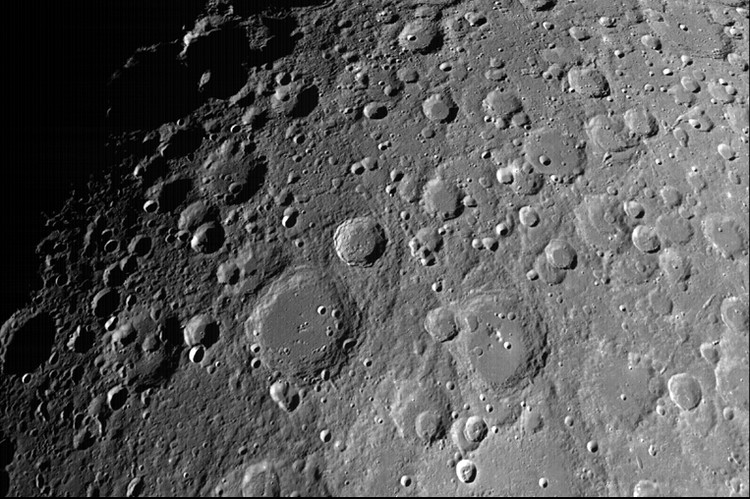crater: (232, 262, 382, 395), (324, 207, 394, 276), (657, 363, 708, 419), (507, 452, 572, 495), (535, 232, 595, 272), (352, 98, 405, 136), (537, 17, 558, 37)
